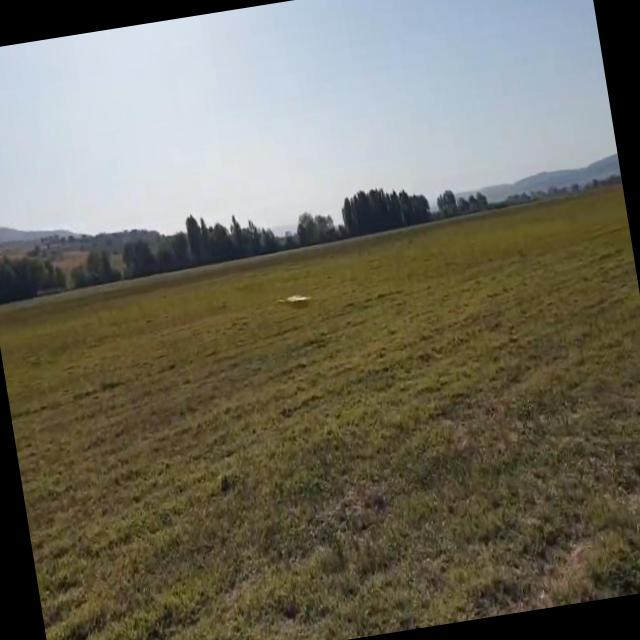UAV: (282, 276, 341, 350)
